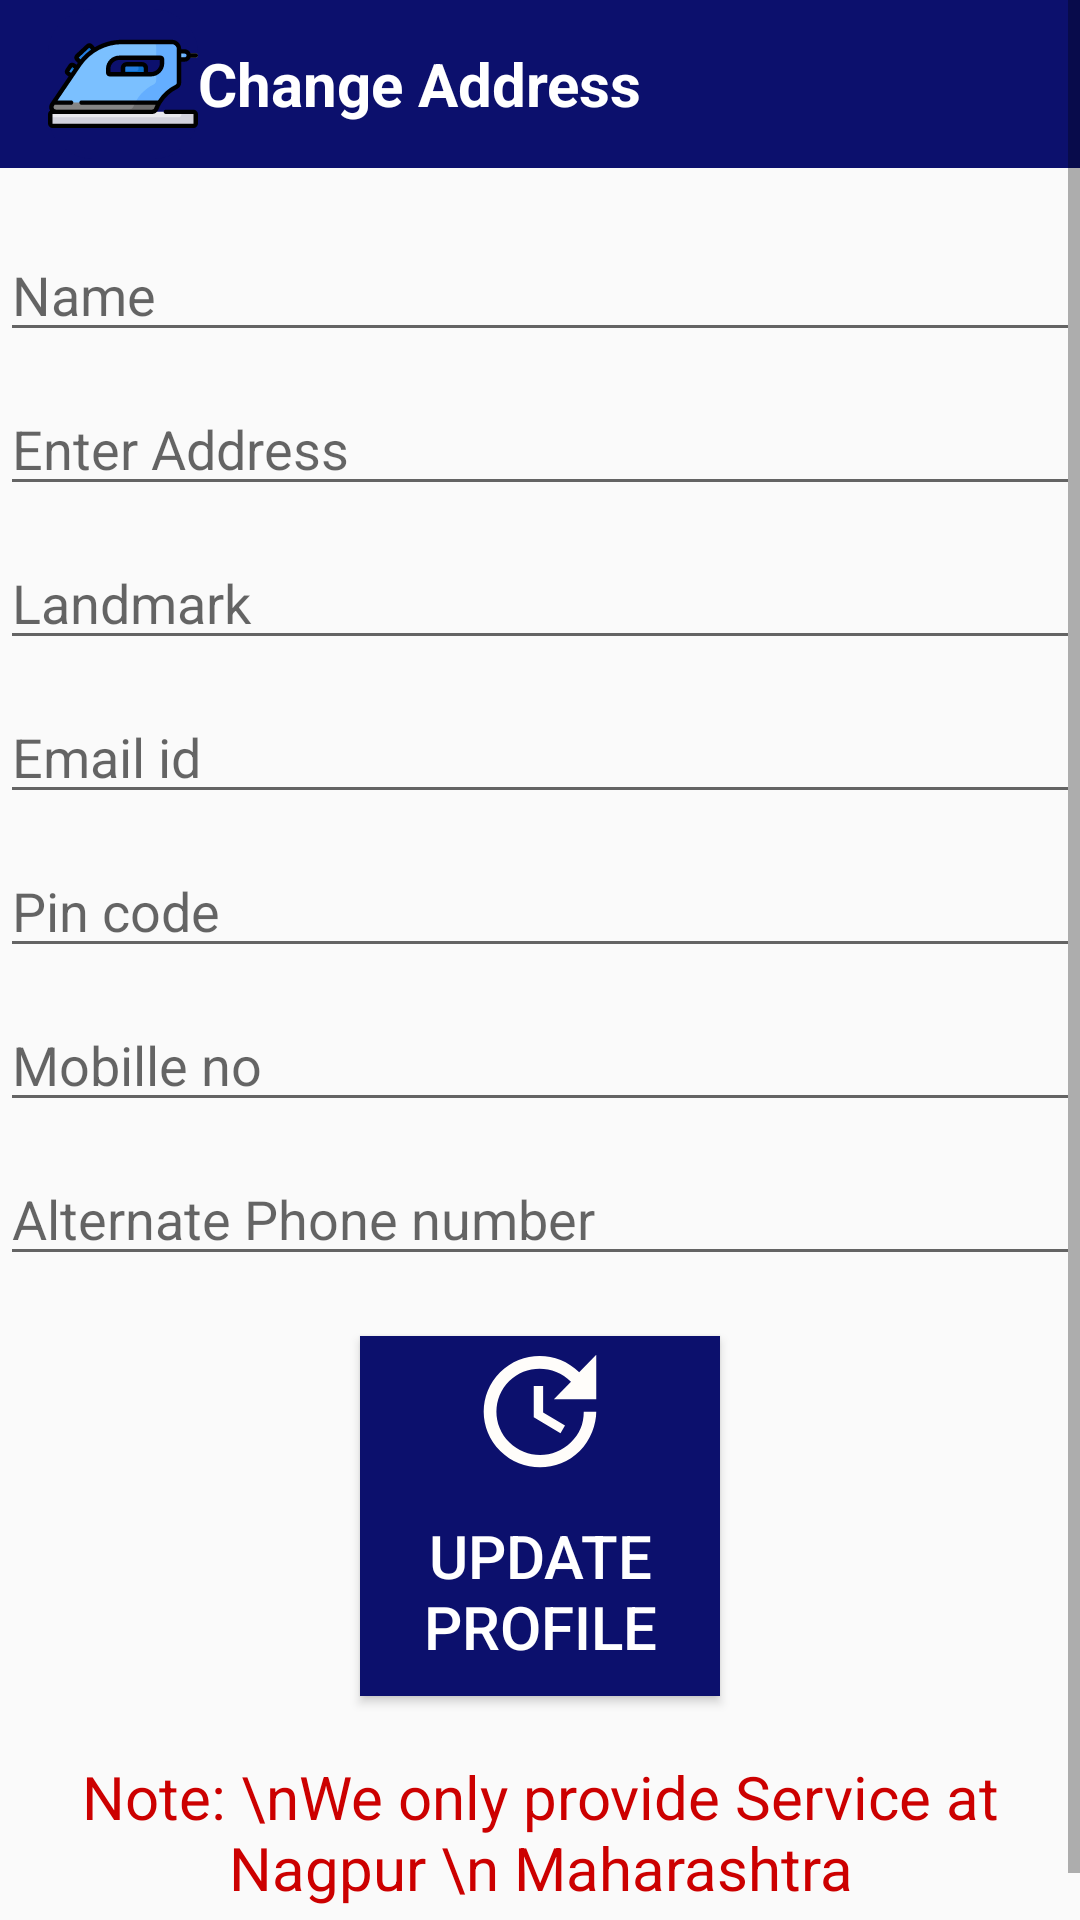

Screen size 1080x1920. Icon name, then its box in pixels as (x1, y1, x2, y2):
iron: (48, 39, 198, 128)
